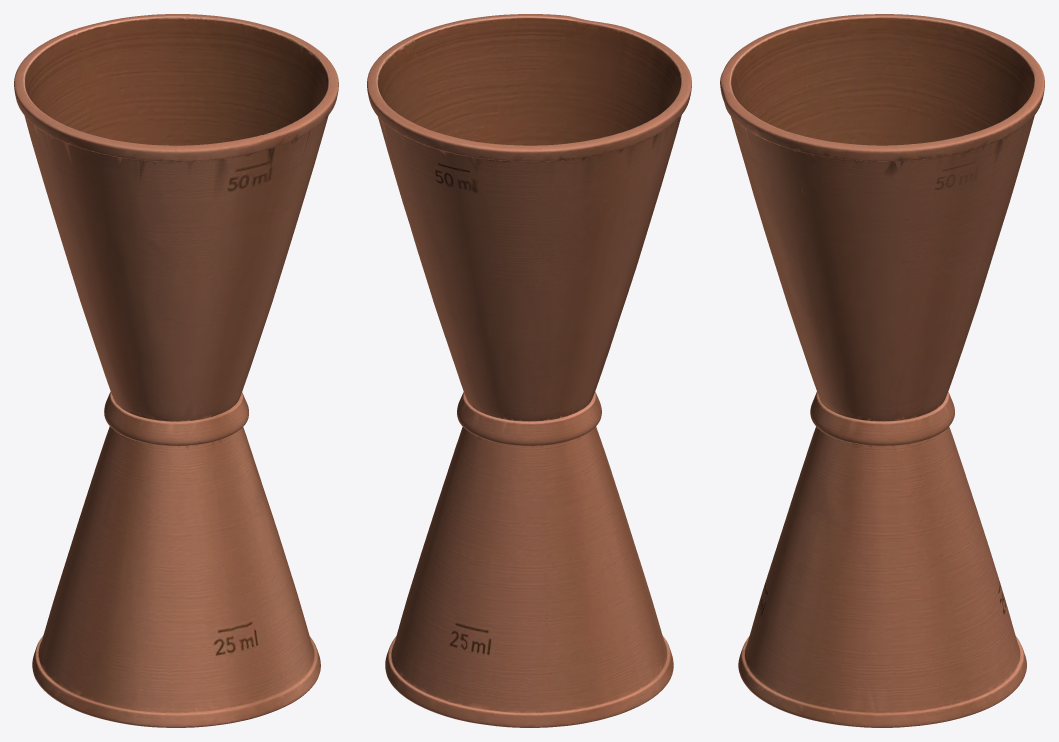
The model's file is jugger.glb.
3 renders of one model, left to right at view 1: azimuth 30°, elevation 25°; view 2: azimuth 150°, elevation 25°; view 3: azimuth 270°, elevation 25°, orthographic.
Size of the model in its own units: 0.9522 by 1.9 by 0.9531.
1 material, 1 textured.
